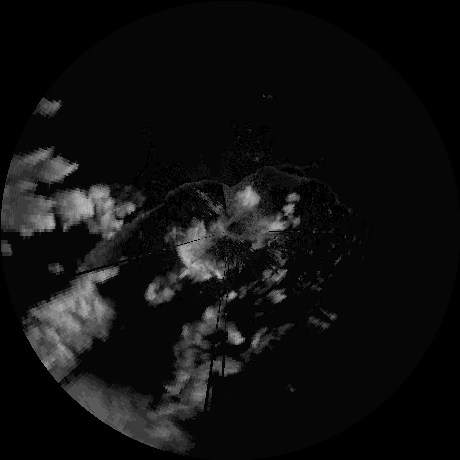frontgust: (124, 178, 227, 225), (236, 160, 318, 189)
